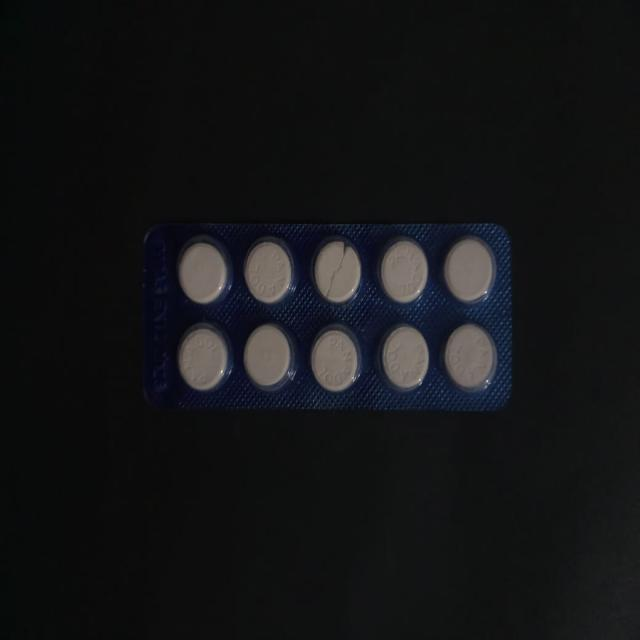defect: (310, 234, 365, 306)
